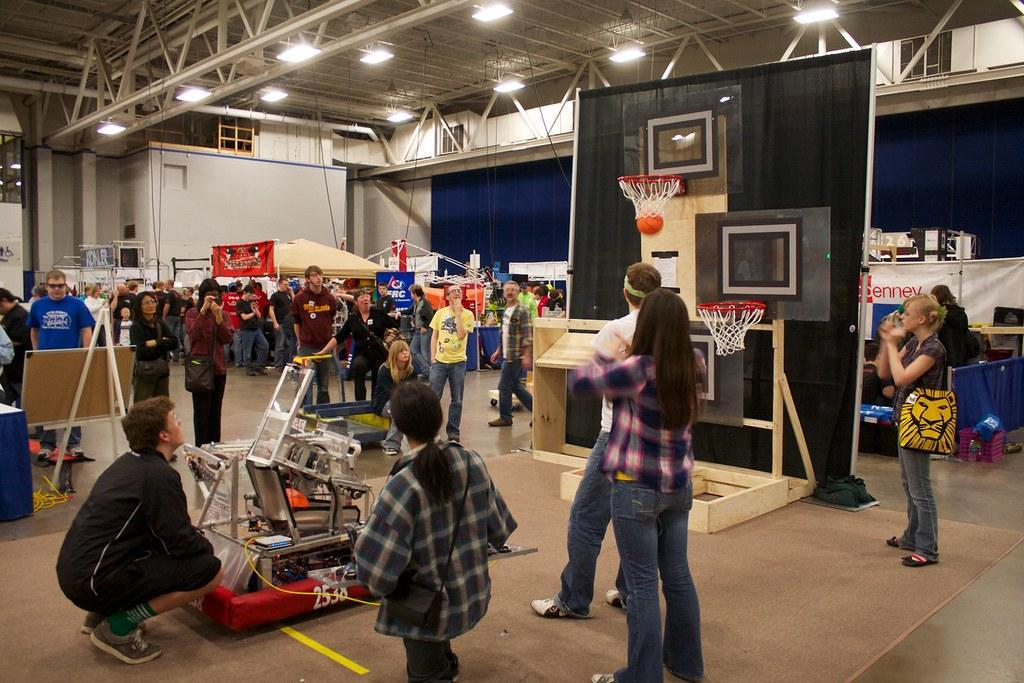robot: (166, 326, 430, 647)
